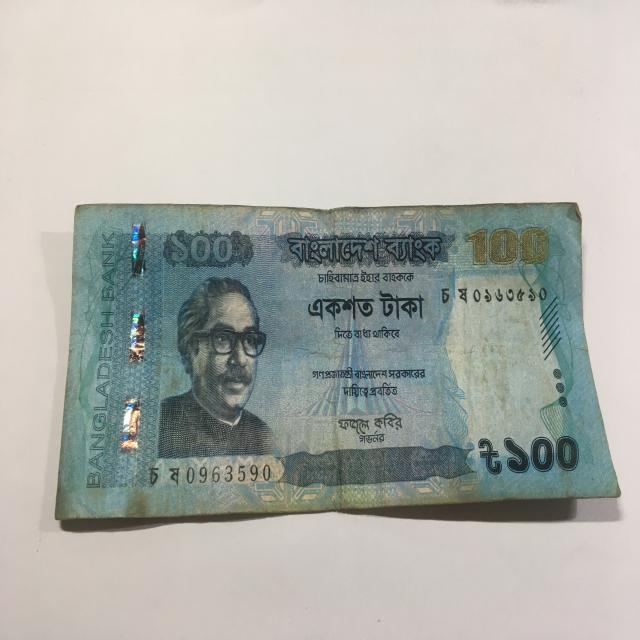Taka: (59, 183, 616, 545)
